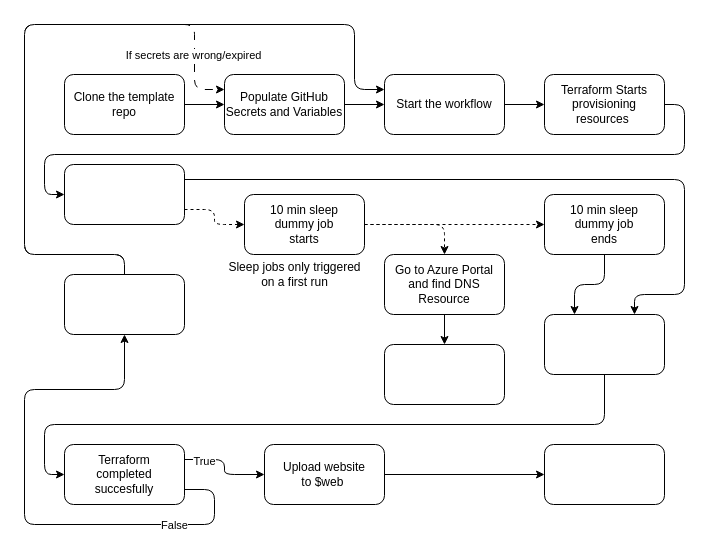
Some shapes in this 710 by 550 pixel diagram are drawn without their labels. Each missing label, with the centre of its shape:
"Debug if required (if DNS propagation issue then wait)" goes at (x=124, y=304).
"Put the Authoritative NS records into your Domain Registrar" goes at (x=444, y=374).
"Terraform continues provisioning required resources" goes at (x=604, y=344).
"Terraform provisions DNS Resource on Azure" goes at (x=124, y=194).
"Website up and running" goes at (x=604, y=474).
